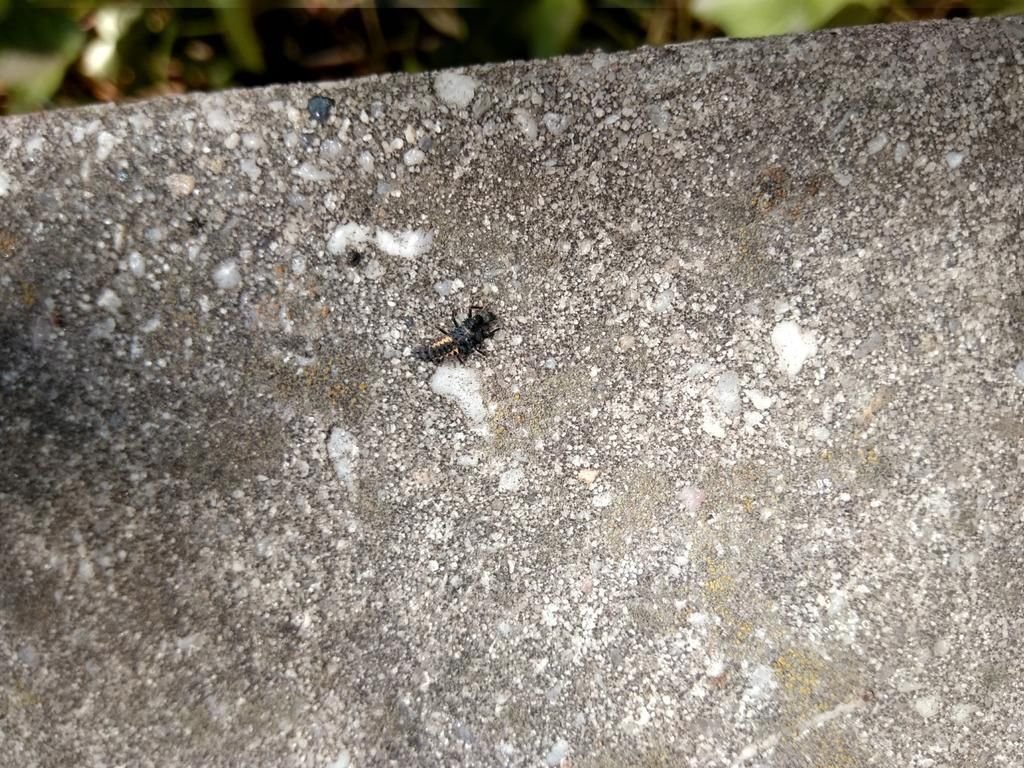ladybug: (410, 304, 506, 369)
